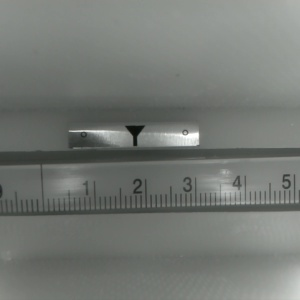1: (82, 180, 89, 195)
2: (132, 178, 142, 194)
3: (181, 177, 191, 192)
4: (231, 175, 241, 190)
5: (281, 173, 290, 190)
finger: (123, 126, 145, 147)
